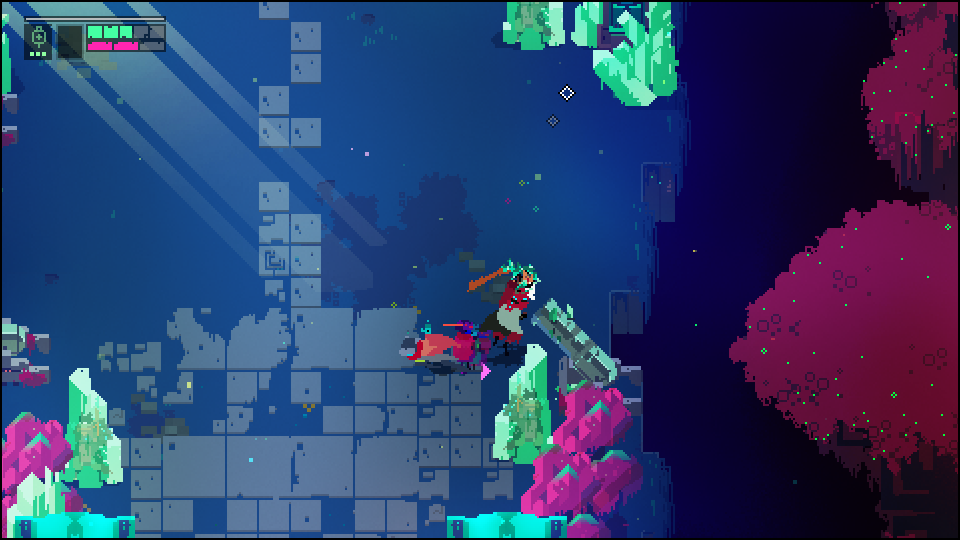hanged_man: (481, 261, 534, 359)
player: (396, 333, 457, 368)
